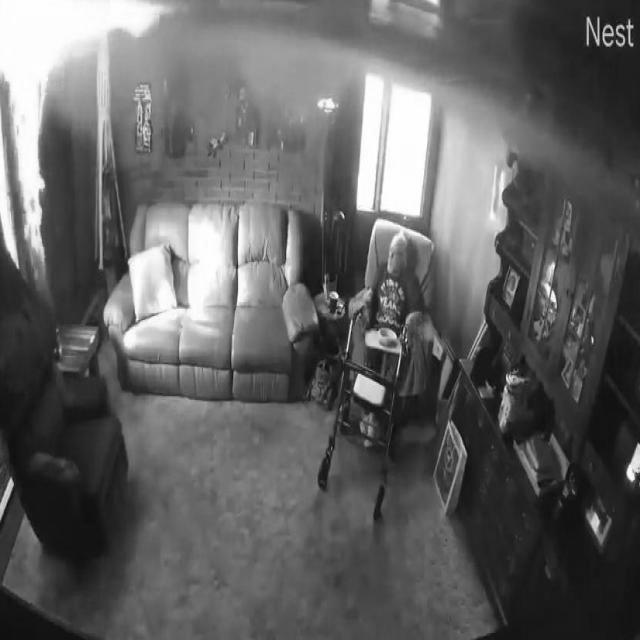smoke: (0, 0, 49, 259), (0, 0, 171, 65)
